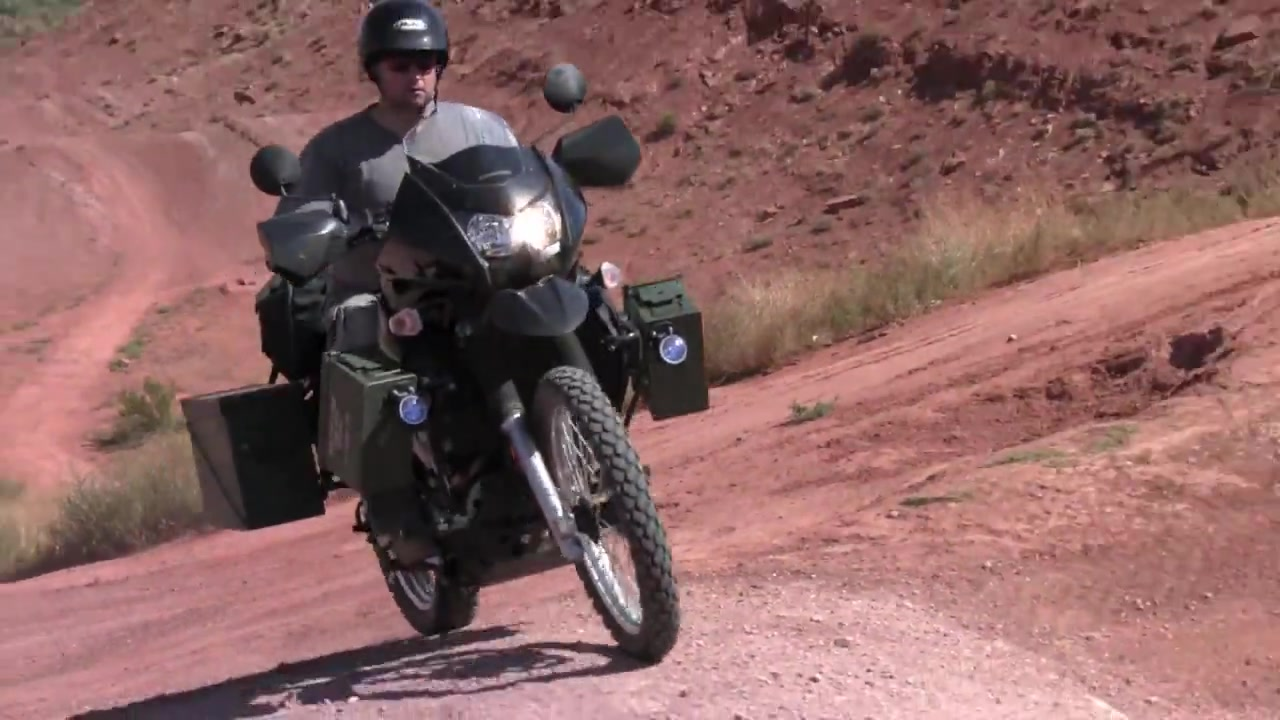motorbike: (251, 65, 686, 666)
